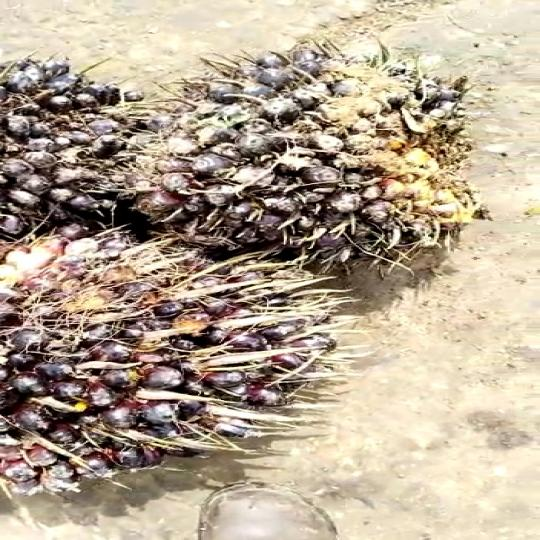mentah: (0, 238, 356, 488), (111, 43, 501, 251)
